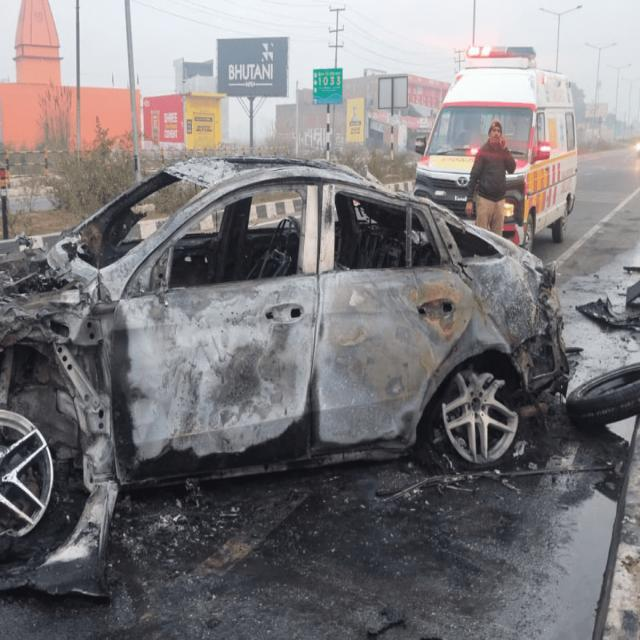accident: (0, 157, 568, 595)
emergency: (415, 47, 578, 248)
